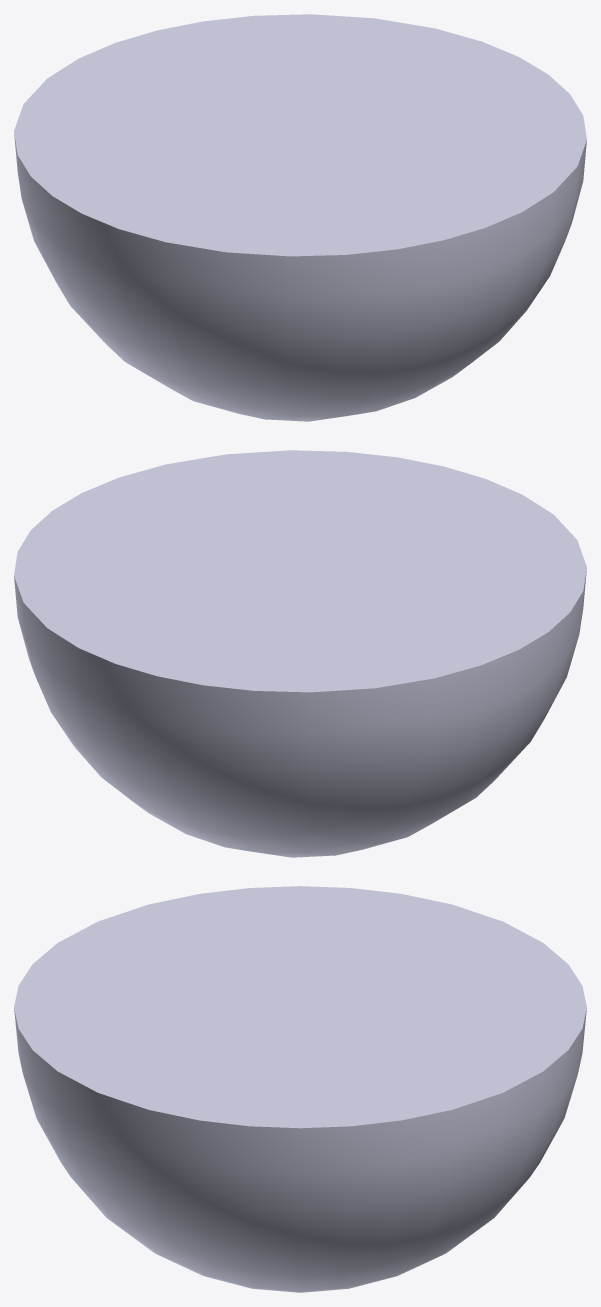
Rendered from Semisphere.fbx.
3 renders of one model, top to bottom at view 1: azimuth 30°, elevation 25°; view 2: azimuth 150°, elevation 25°; view 3: azimuth 270°, elevation 25°, orthographic.
Visible parts, largest first — view 1: Semisphere; view 2: Semisphere; view 3: Semisphere.
Part boxes in pixels (<box>): Semisphere: <box>14,14,586,421</box>; Semisphere: <box>14,450,586,857</box>; Semisphere: <box>14,886,586,1292</box>.
Size of the model in its own units: 2226 by 1113 by 2226.
